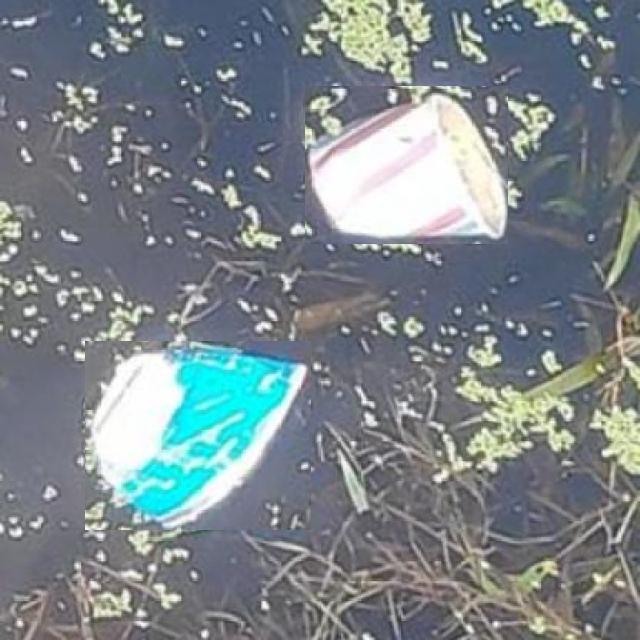Plastic cup: (85, 341, 311, 530), (305, 86, 508, 244)
